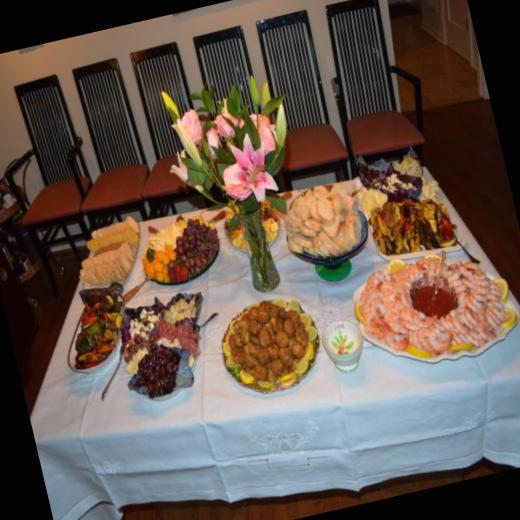Orange: (159, 214, 225, 282)
